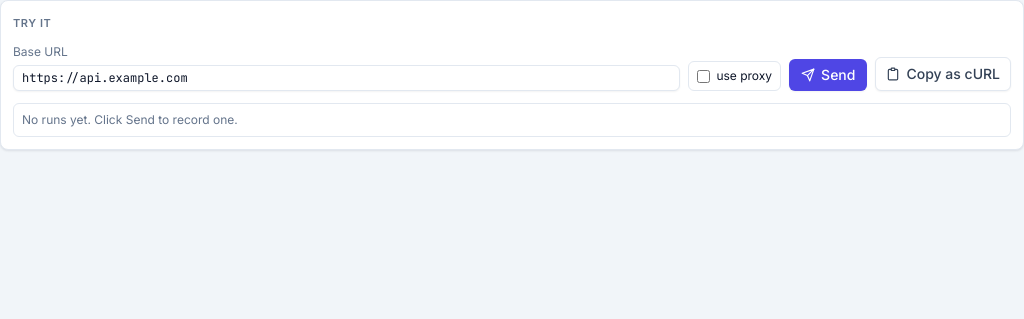
Test: clear history shows noHistory text
Send to create an entry
Click the button "Send" at (828, 75), box [789,59,867,91]
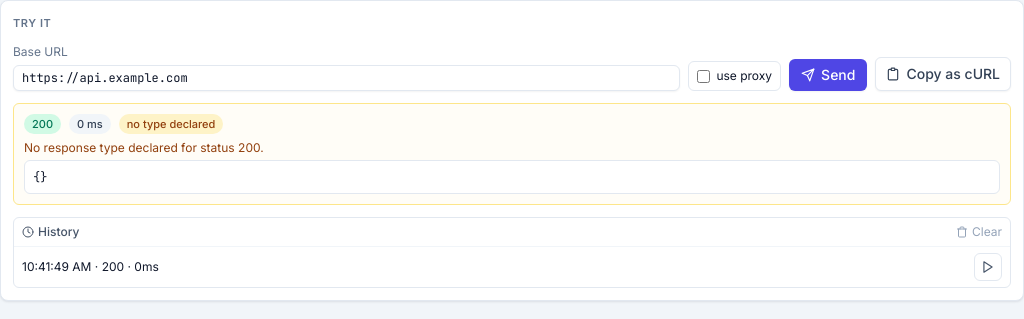
Click Clear
Click the button "Clear" at (979, 232), box [956,224,1002,240]
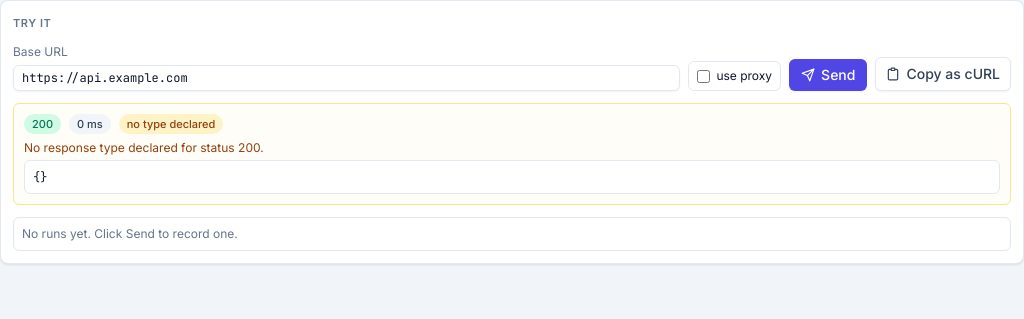
Expected: the text "No runs yet. Click Send to record one." is shown, [13,217,1011,251]
